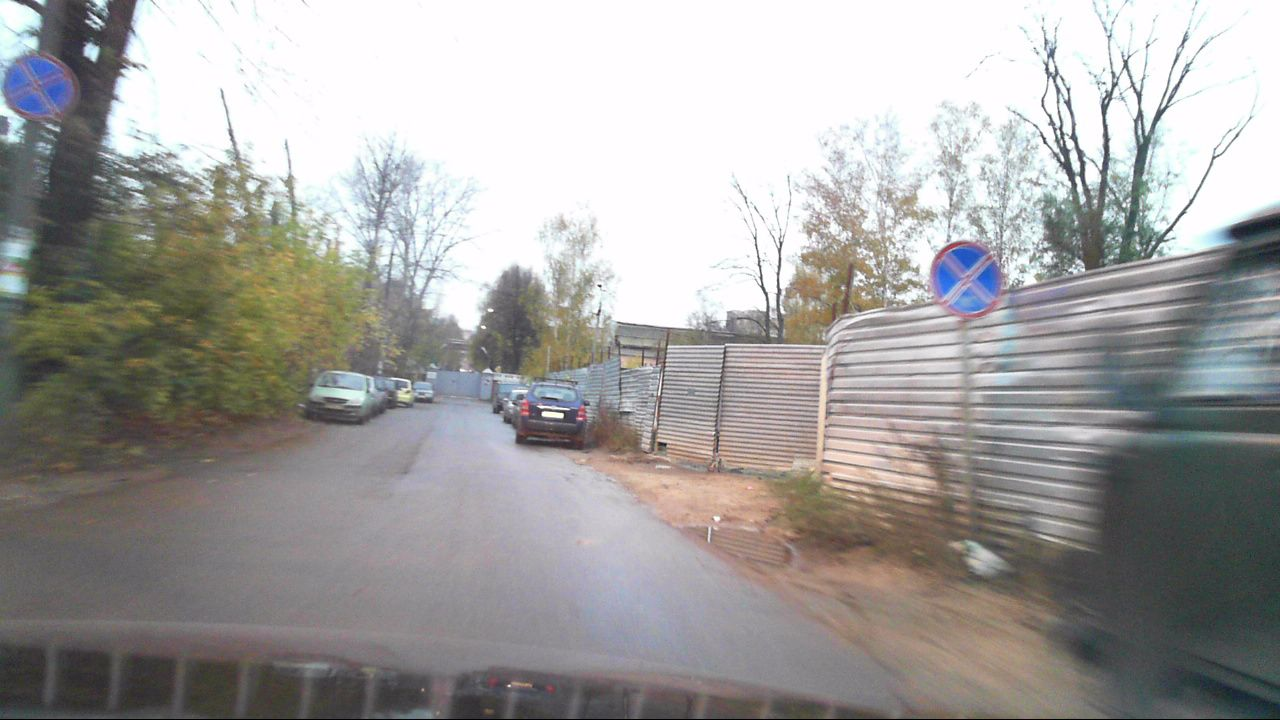No Parking: (928, 243, 1000, 318)
